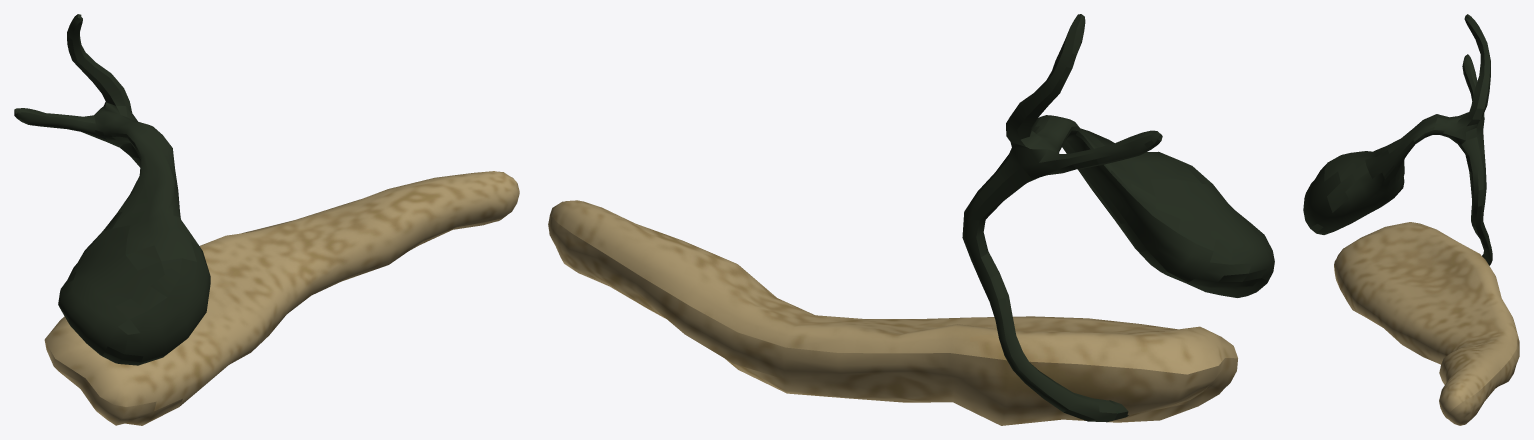
File: Adam_Galbladder.dae
3 renders of one model, left to right at view 1: azimuth 30°, elevation 25°; view 2: azimuth 150°, elevation 25°; view 3: azimuth 270°, elevation 25°, orthographic. The views are drawn at different scales.
Parts seen in each view (by area): view 1: 3.003; view 2: 3.003; view 3: 3.003.
Part boxes in pixels (x1,y1,x2,y2): 3.003: (14,14,519,425); 3.003: (548,14,1274,425); 3.003: (1303,14,1519,425).
Bounding box in the file's own units: 4.08 × 1.84 × 2.76.
1 material, 1 textured.
